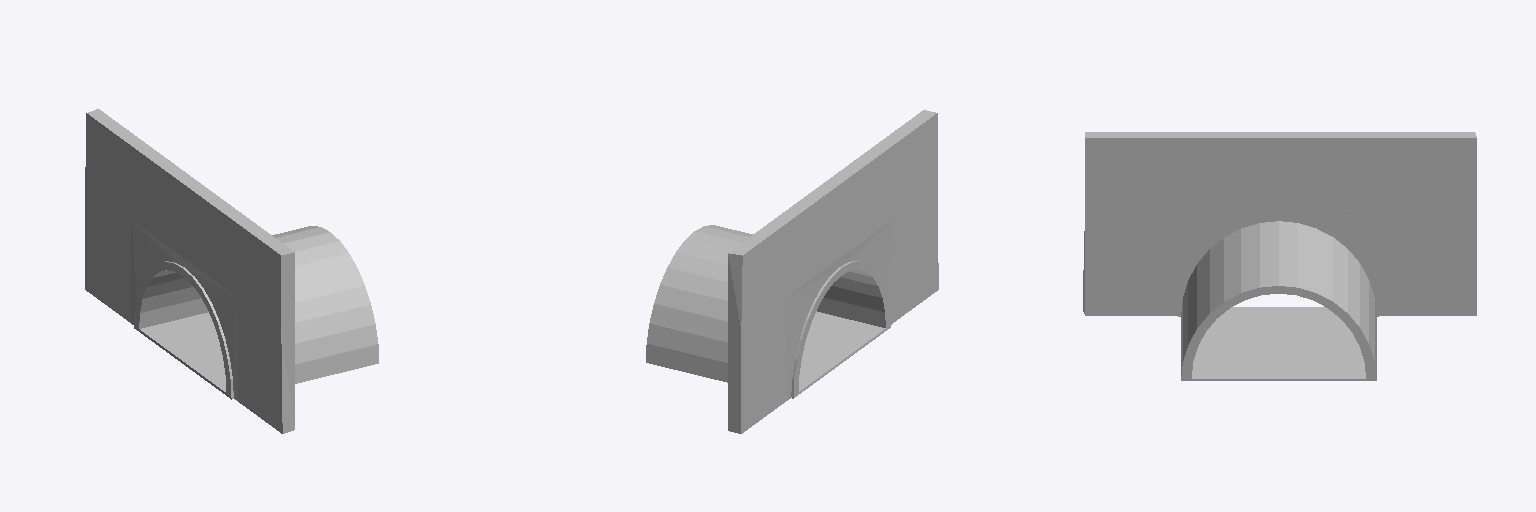
Rendered from icosphere_solid_tube_and_wall.obj.
3 views of the same model, side by side, from view 1: azimuth 30°, elevation 25°; view 2: azimuth 150°, elevation 25°; view 3: azimuth 270°, elevation 25° (orthographic).
Parts seen in each view (by area): view 1: Cylinder.001; view 2: Cylinder.001; view 3: Cylinder.001.
Boxes of the visible parts, x1=… form: Cylinder.001: x1=85, y1=109, x2=378, y2=433; Cylinder.001: x1=646, y1=110, x2=938, y2=433; Cylinder.001: x1=1083, y1=132, x2=1476, y2=380.
Size of the model in its own units: 8.71 by 10.05 by 20.14.